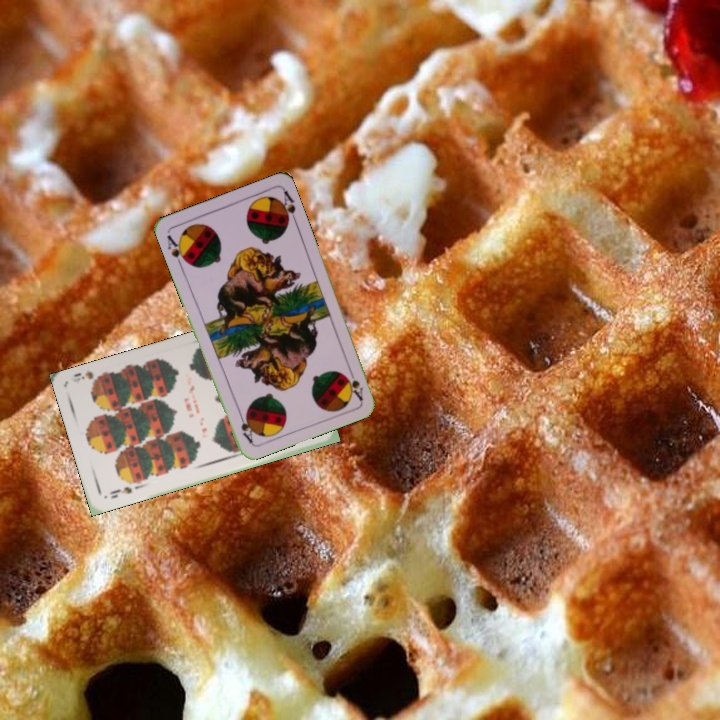S9: (105, 482, 135, 501)
SA: (163, 231, 191, 269), (341, 363, 366, 403)
